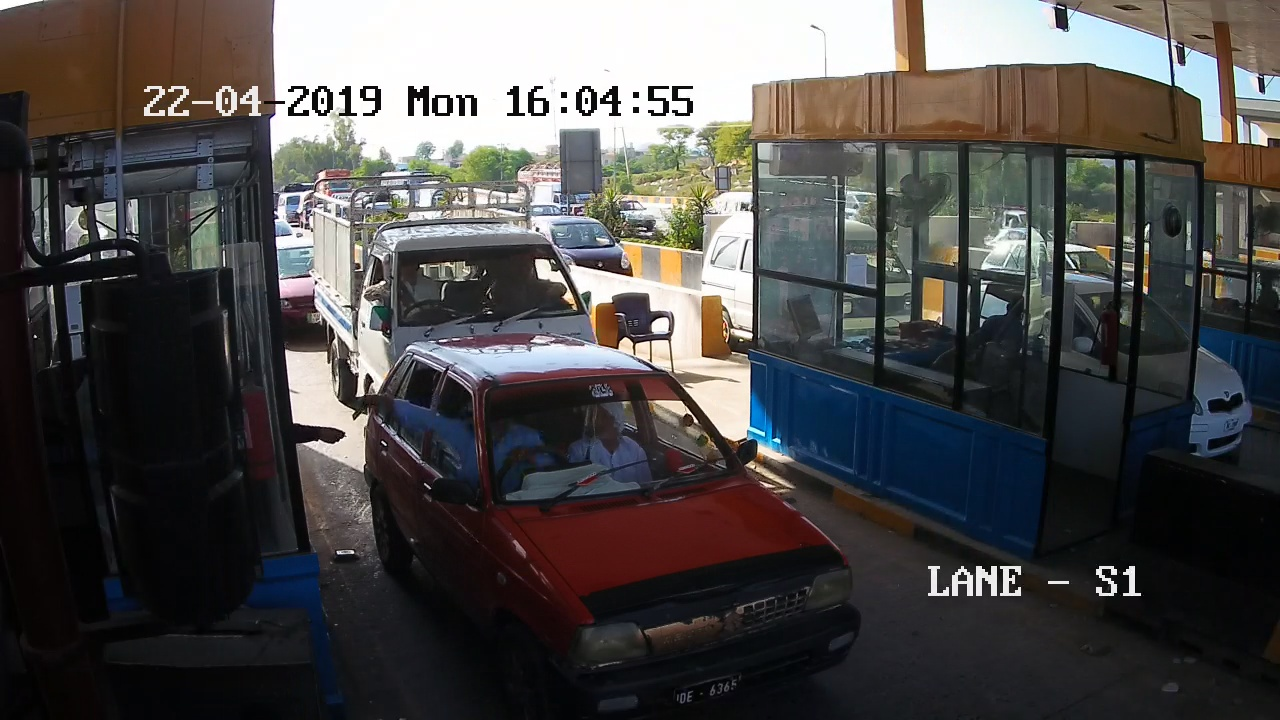Number Plate (Car): (671, 676, 746, 707)
